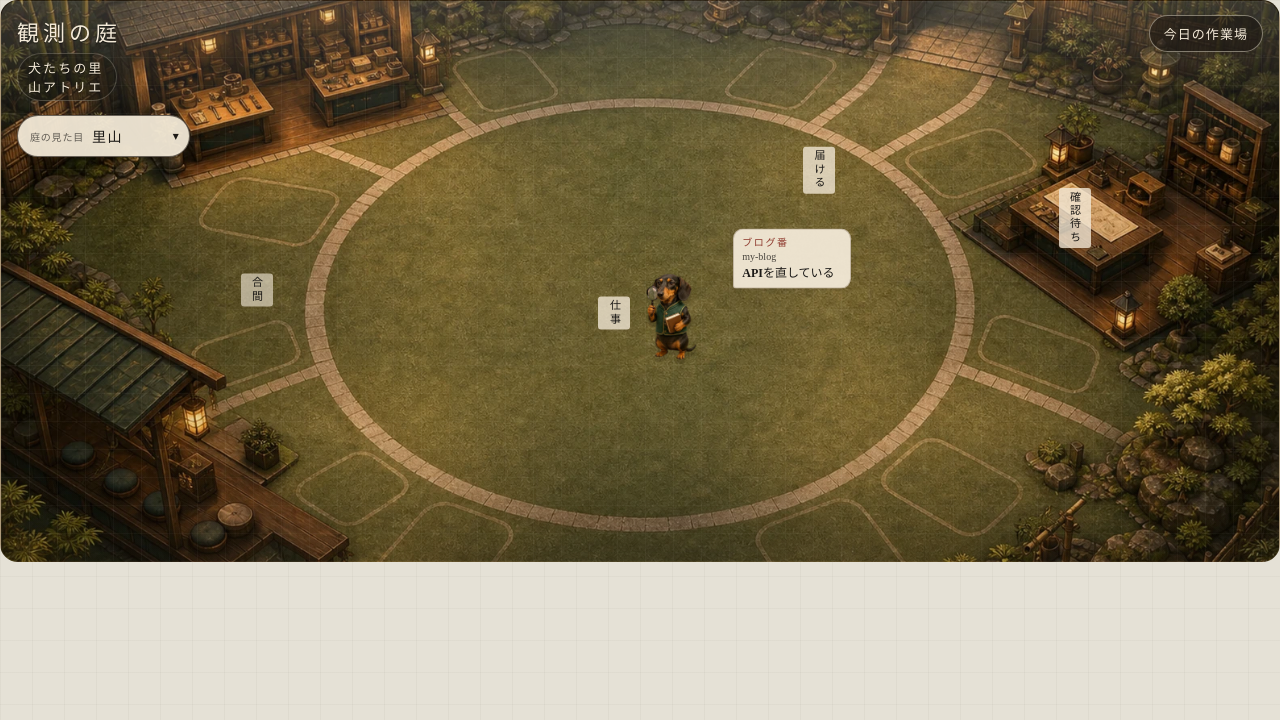
Scenario: ObserverGarden › opens inspect on character click and shows Codexで開く only for a valid target
What coordinates should you click on to do the following:
click the 7th button
I would click on:
 (675, 307)
Its box is [615, 247, 735, 367].
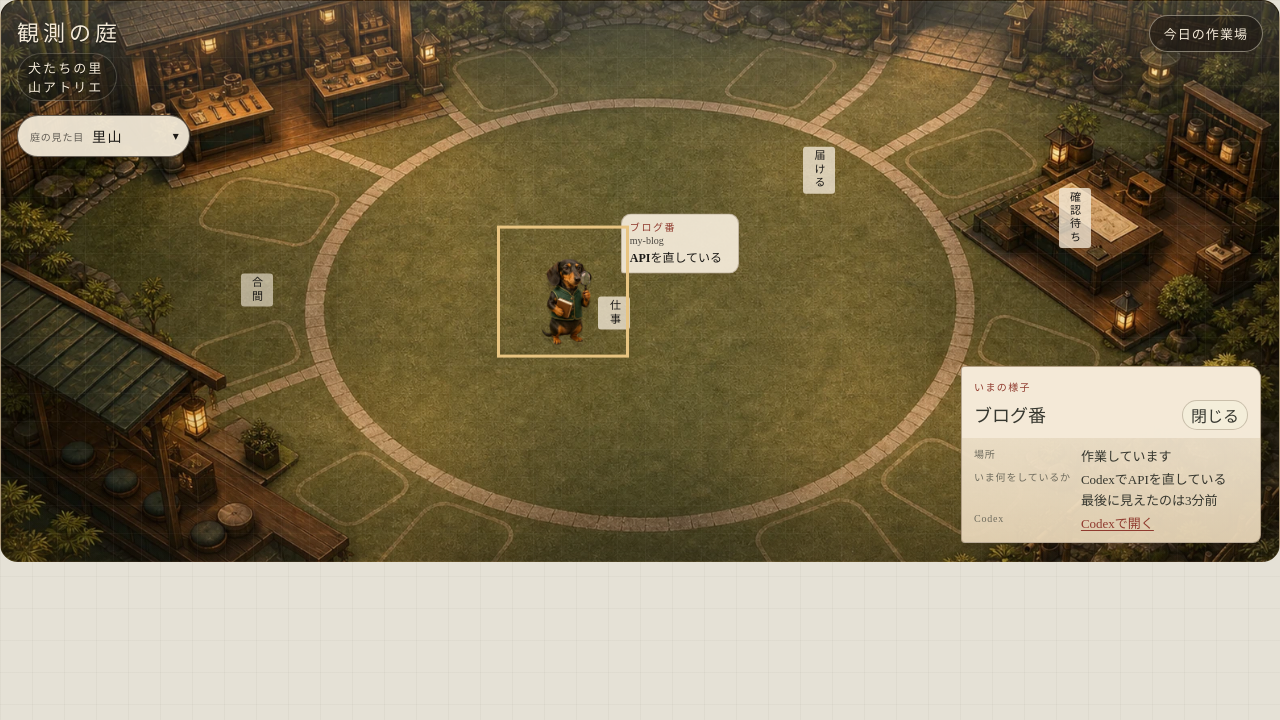
Now the element with test id "garden-inspect" shows "ブログ番", box [974, 406, 1046, 426]
